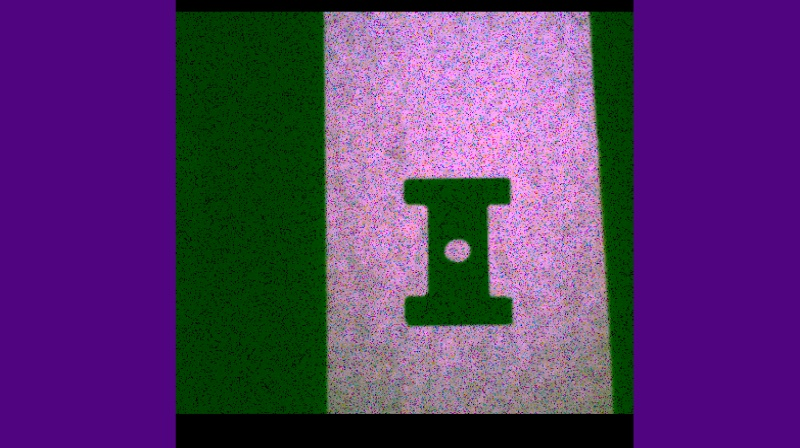O002: (399, 172, 512, 327)
